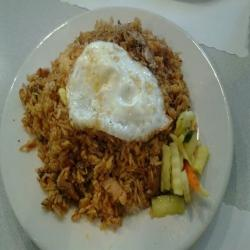omelette: (67, 44, 168, 141)
rice: (37, 118, 144, 217)
